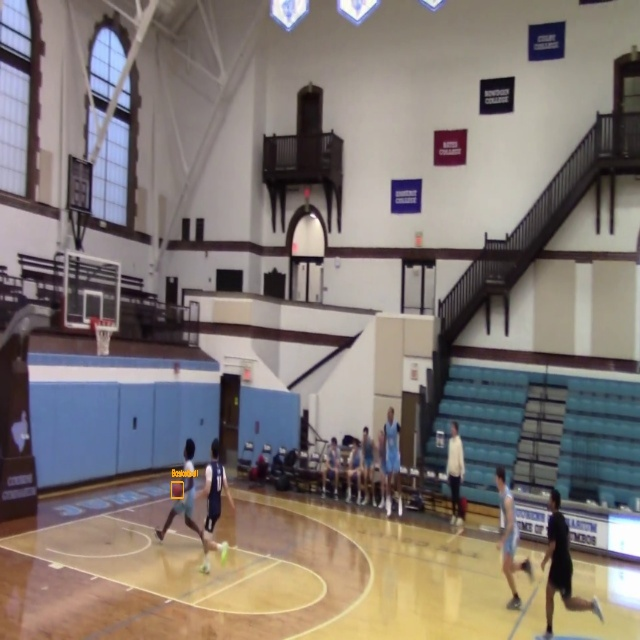Basketball: (172, 482, 183, 498)
